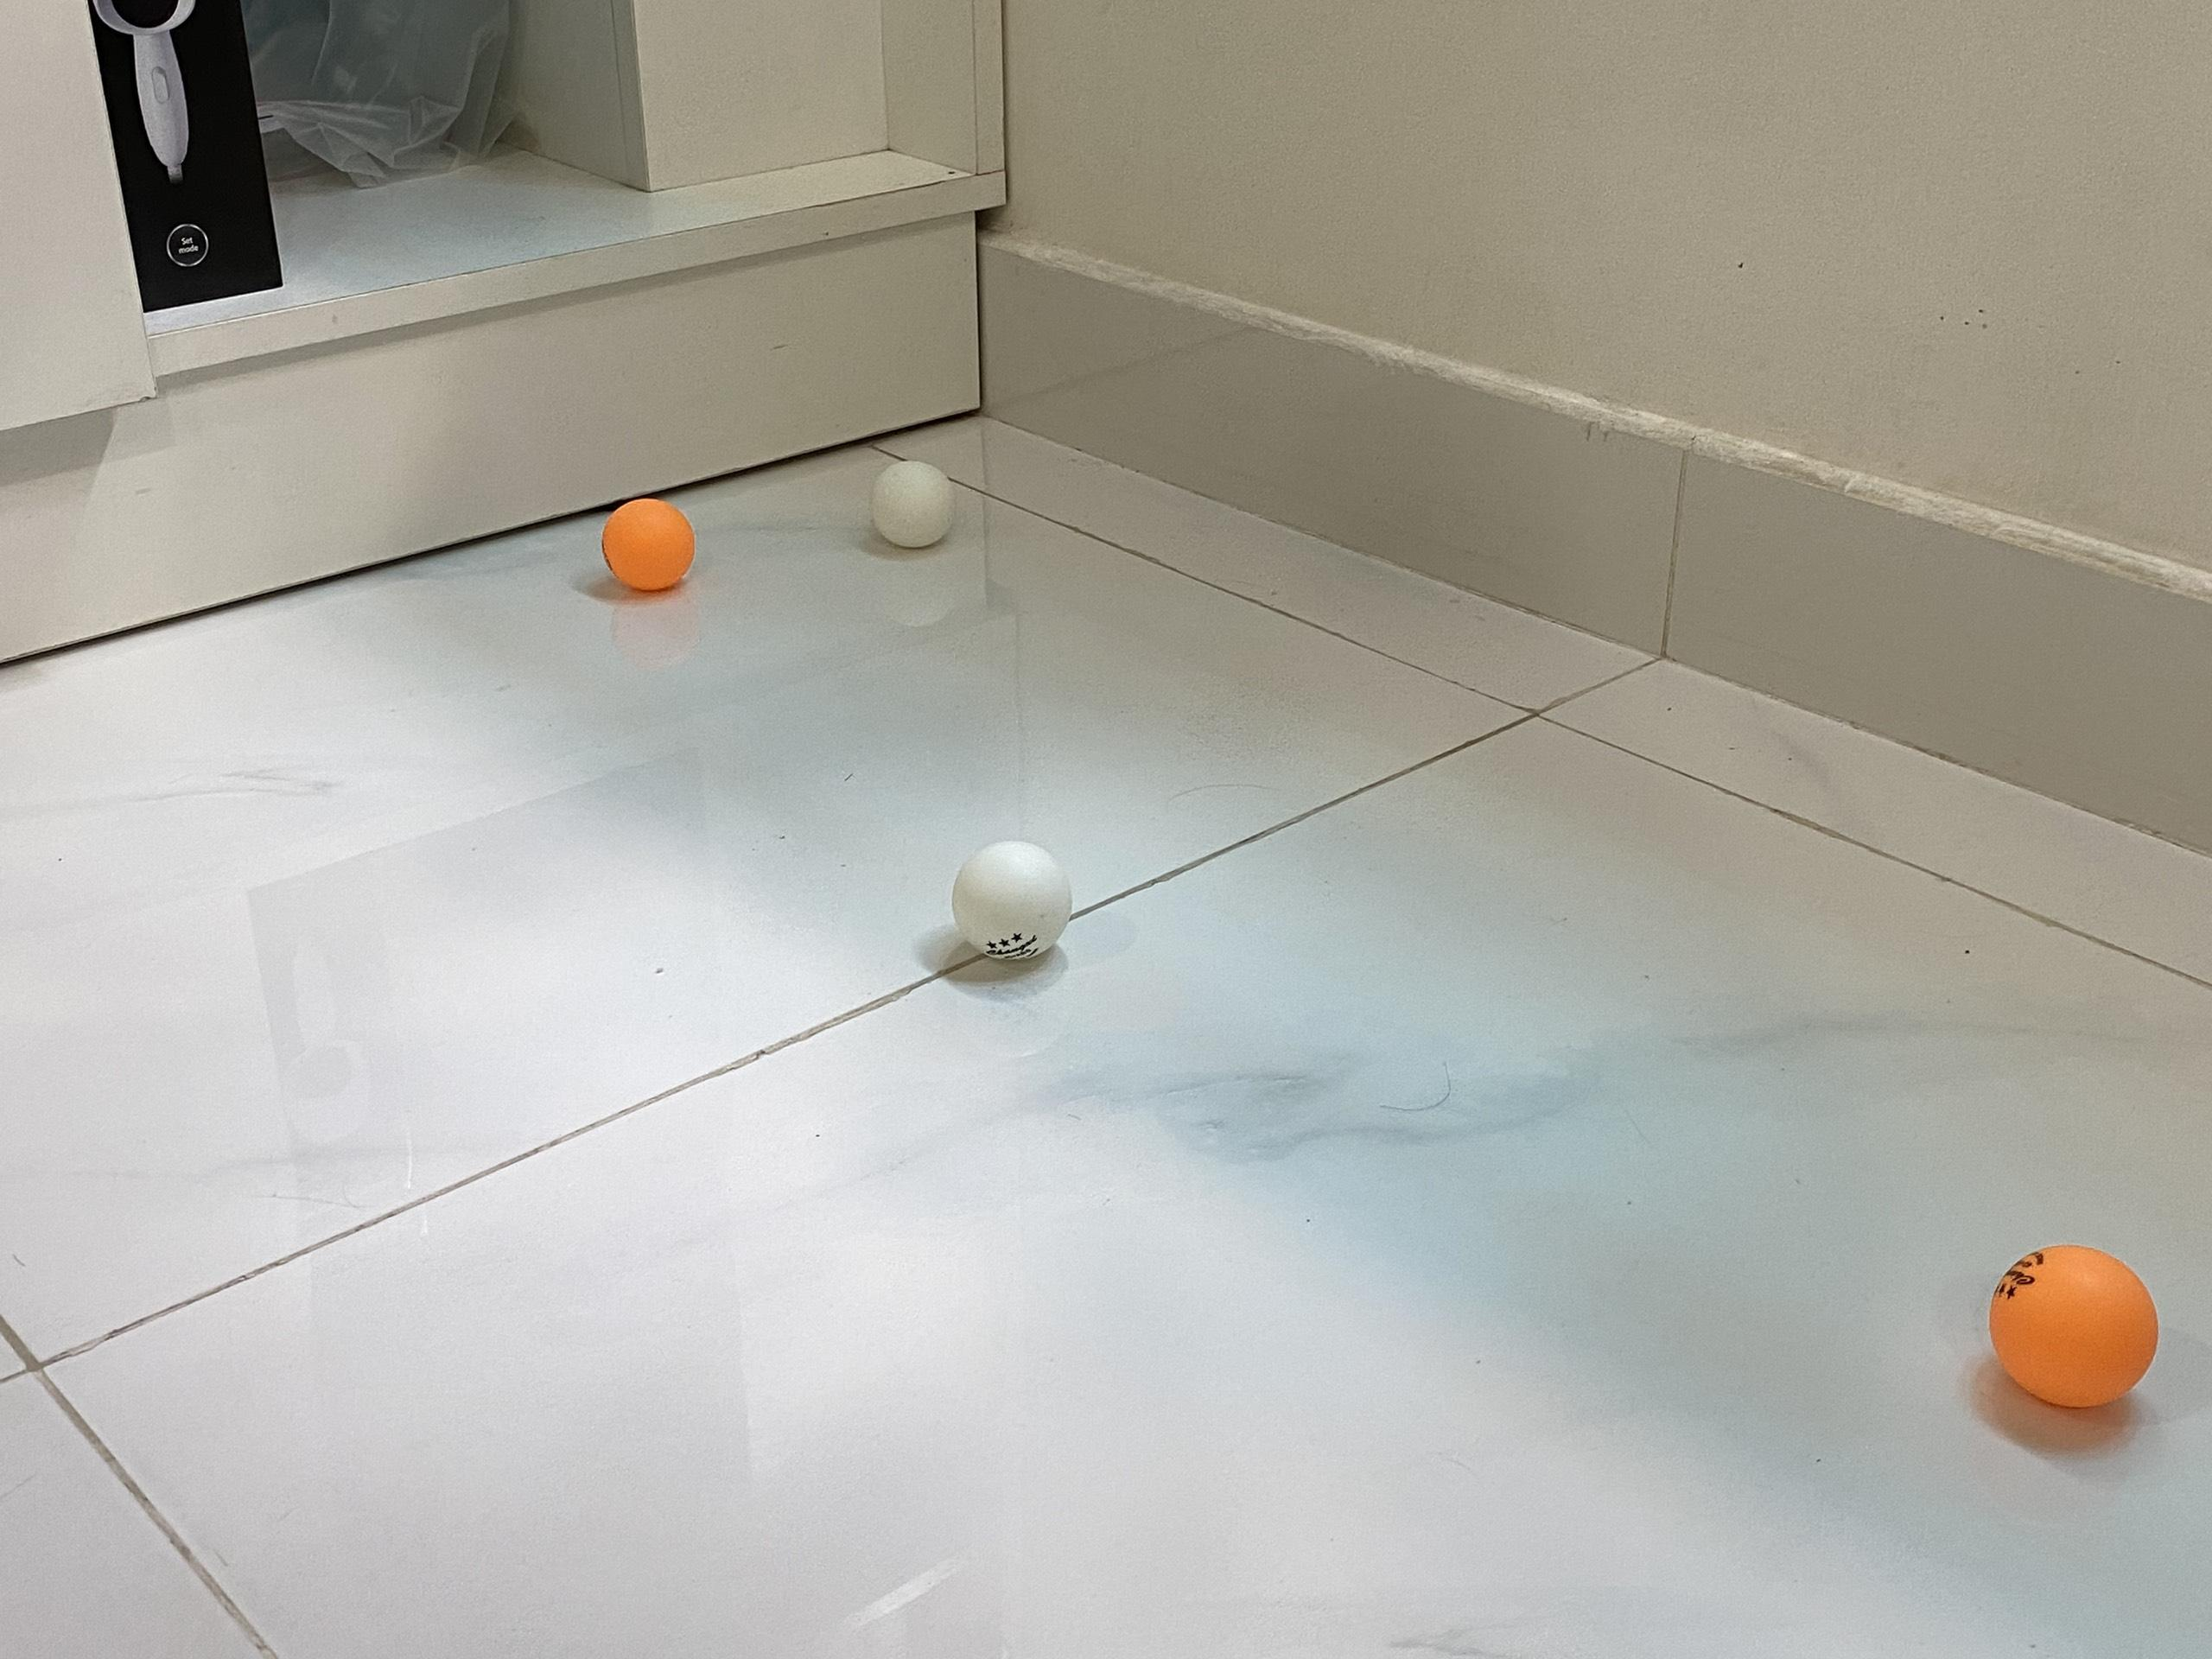oball: (1989, 1241, 2156, 1410), (608, 498, 695, 589)
